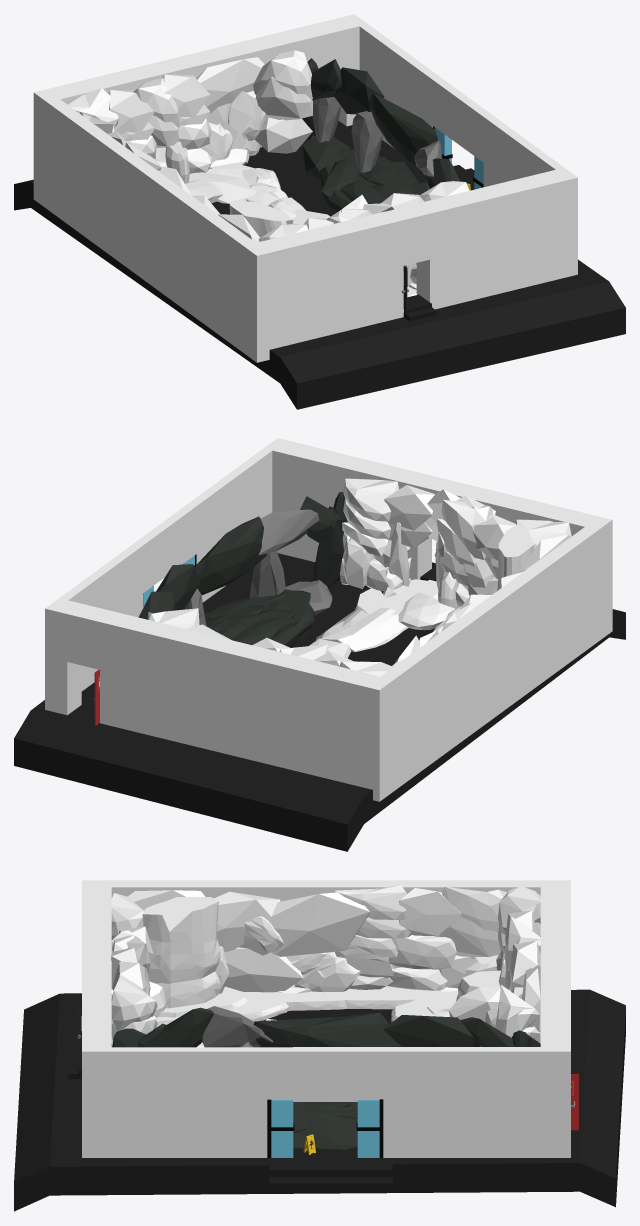
The model's file is PenguinBuilding.fbx.
The picture shows the model from 3 angles, top to bottom: view 1: azimuth 30°, elevation 25°; view 2: azimuth 150°, elevation 25°; view 3: azimuth 270°, elevation 25°; orthographic projection. The views are drawn at different scales.
Visible parts, largest first — view 1: Building, Foundatioj, IceWall, RockSection, IceBlock11, Rock004, Rock006, IceBlock016, Rock008, IceBlock3, Rock005, IceBlock015 (+2 smaller); view 2: Building, Foundatioj, IceWall, RockSection, Rock3, Rock007, Rock004, Rock009, IceBlock023; view 3: Building, IceWall, Foundatioj, RockSection, IceBlock019, IceBlock021, Rock004, Stairs3, IceBlock024, Rock3, Stairs4, IceBlock018 (+7 smaller).
Boxes of the visible parts, <box> form: Building: <box>33,14,577,362</box>; Foundatioj: <box>14,120,625,409</box>; IceWall: <box>66,50,469,297</box>; RockSection: <box>302,58,460,213</box>; IceBlock11: <box>196,57,264,113</box>; Rock004: <box>333,67,384,114</box>; Rock006: <box>351,111,382,172</box>; IceBlock016: <box>228,91,266,140</box>; Rock008: <box>302,135,349,179</box>; IceBlock3: <box>188,172,256,204</box>; Rock005: <box>312,97,340,142</box>; IceBlock015: <box>200,122,232,161</box>; Building: <box>45,438,612,801</box>; Foundatioj: <box>14,553,625,851</box>; IceWall: <box>148,478,571,676</box>; RockSection: <box>138,492,347,647</box>; Rock3: <box>258,509,319,555</box>; Rock007: <box>249,551,285,598</box>; Rock004: <box>156,564,199,610</box>; Rock009: <box>294,580,332,615</box>; IceBlock023: <box>520,535,570,571</box>; Building: <box>82,880,570,1157</box>; IceWall: <box>111,885,540,1047</box>; Foundatioj: <box>14,989,625,1211</box>; RockSection: <box>112,1007,540,1149</box>; IceBlock019: <box>269,892,369,956</box>; IceBlock021: <box>225,947,303,992</box>; Rock004: <box>384,1015,475,1046</box>; Stairs3: <box>269,1158,392,1176</box>; IceBlock024: <box>214,891,280,952</box>; Rock3: <box>202,1006,273,1047</box>; Stairs4: <box>269,1177,392,1191</box>; IceBlock018: <box>294,952,360,992</box>.
Size of the model in its own units: 892 by 348 by 1213.
11 materials, 9 textured.
